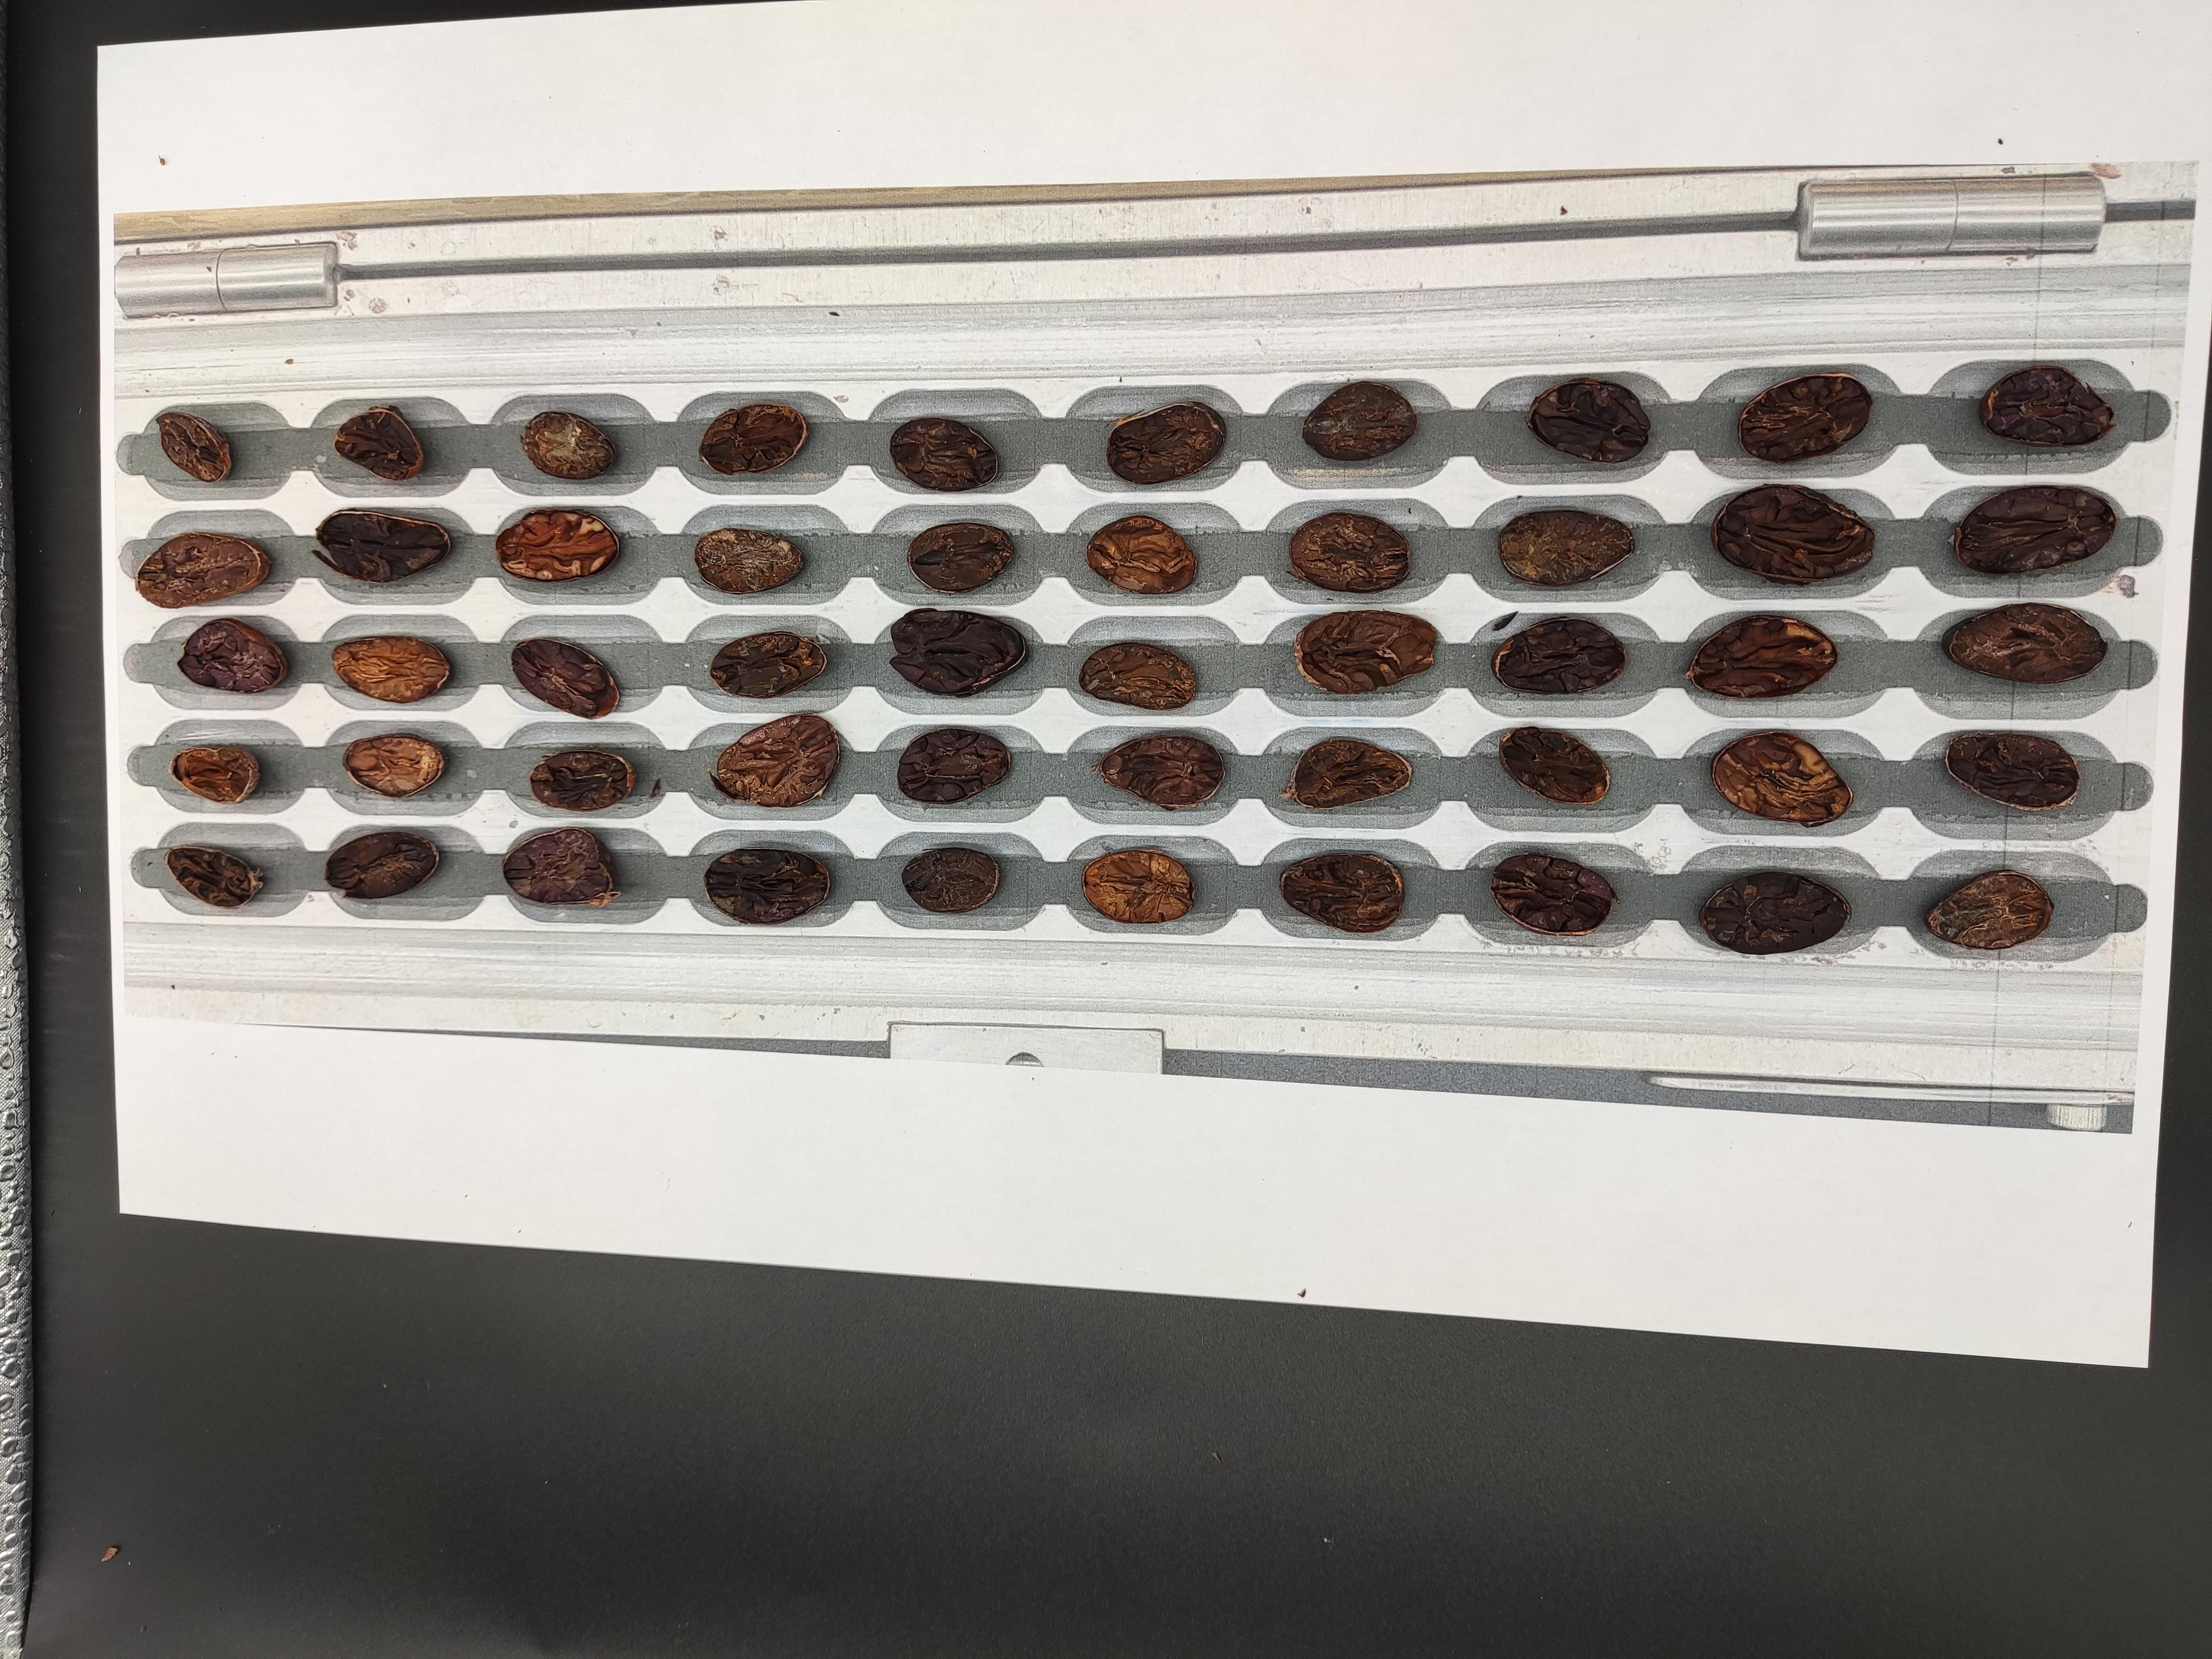Brown - G1: (1951, 1054, 2045, 1114), (1939, 1119, 2027, 1176), (1332, 1068, 1402, 1114), (1165, 1187, 1216, 1225)
Brown - G2: (1952, 1182, 2033, 1237), (1442, 1169, 1517, 1229), (1740, 1119, 1822, 1171), (1968, 999, 2043, 1053), (1731, 1243, 1804, 1293), (1738, 1185, 1810, 1232), (1843, 1178, 1909, 1227), (1433, 1011, 1500, 1060), (1634, 1070, 1698, 1119), (1639, 1185, 1712, 1227)
Brown - G3: (2067, 1117, 2163, 1166), (1644, 1009, 1714, 1063), (1735, 1068, 1810, 1117), (1146, 1079, 1223, 1124), (1629, 1239, 1696, 1288), (1629, 1134, 1698, 1182), (1247, 1131, 1318, 1175), (1540, 1073, 1606, 1119), (1252, 1182, 1313, 1222), (1158, 1019, 1205, 1063)
Insect-damaged: (1841, 1066, 1925, 1115)
Mouldy: (1743, 1000, 1810, 1051), (2064, 1255, 2137, 1300), (1345, 1014, 1404, 1063), (1536, 1239, 1599, 1284), (1432, 1077, 1496, 1119)
Partly Purple - G1: (1531, 1117, 1611, 1173), (1839, 1243, 1916, 1297)
Partly Purple - G2: (2076, 1054, 2167, 1110), (1238, 1066, 1317, 1117), (1439, 1239, 1512, 1290), (1841, 1124, 1918, 1171), (1536, 1182, 1602, 1227), (1348, 1190, 1407, 1230)
Partly Purple - G3: (1336, 1131, 1402, 1187)
Total Purple - G2: (2090, 993, 2168, 1044)
Total Purple - G3: (1332, 1230, 1404, 1279), (1167, 1124, 1230, 1173)
Very Dark Brown - G1: (1162, 1239, 1219, 1281)
Very Dark Brown - G2: (2069, 1180, 2151, 1230), (1858, 1000, 1928, 1054), (1531, 1021, 1597, 1066), (1245, 1014, 1305, 1063)
Very Dark Brown - G3: (1946, 1253, 2034, 1305), (1244, 1229, 1312, 1279), (1439, 1129, 1510, 1175)
